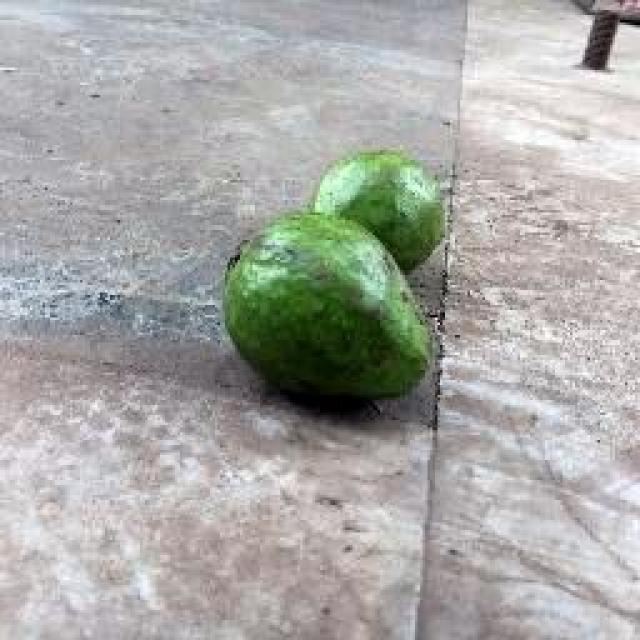Good_Guava: (220, 208, 435, 402)
